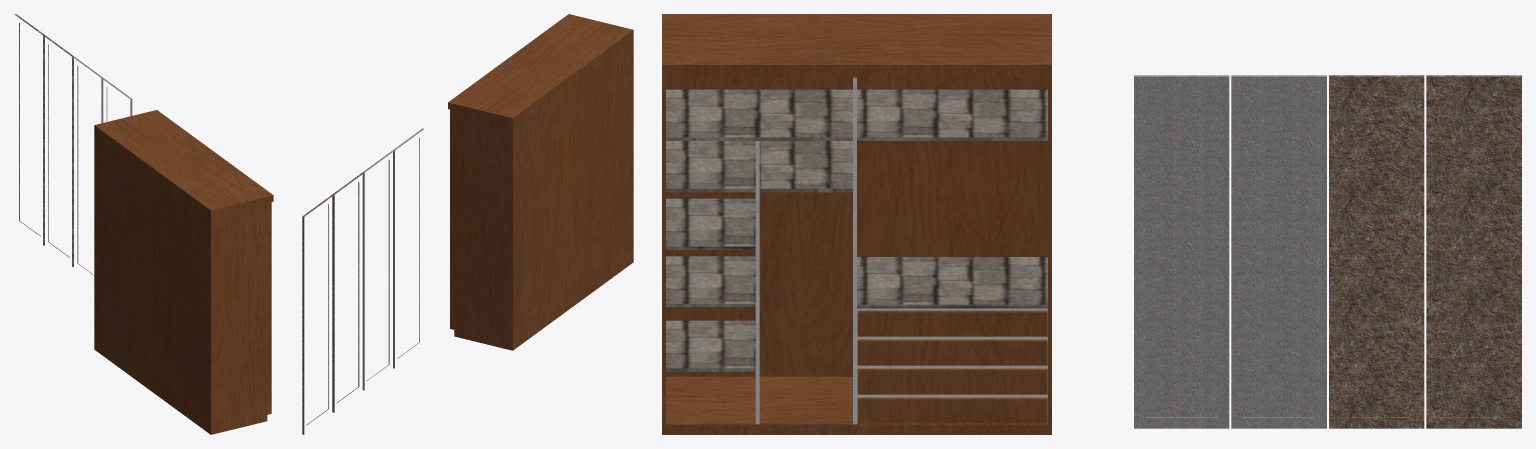
File: dolap.glb
3 views of the same model, side by side, from view 1: azimuth 30°, elevation 25°; view 2: azimuth 150°, elevation 25°; view 3: azimuth 270°, elevation 25° (orthographic). The views are drawn at different scales.
Parts seen in each view (by area): view 1: $ColladaAutoName$_0; view 2: $ColladaAutoName$_0; view 3: $ColladaAutoName$_0.
Boxes of the visible parts, left/top/right/bottom form: $ColladaAutoName$_0: left=14, top=14, right=273, bottom=434; $ColladaAutoName$_0: left=302, top=14, right=633, bottom=434; $ColladaAutoName$_0: left=662, top=14, right=1521, bottom=434.
Bounding box in the file's own units: 0.62 × 2.12 × 4.41.
Materials: 5 (5 with a texture image).
